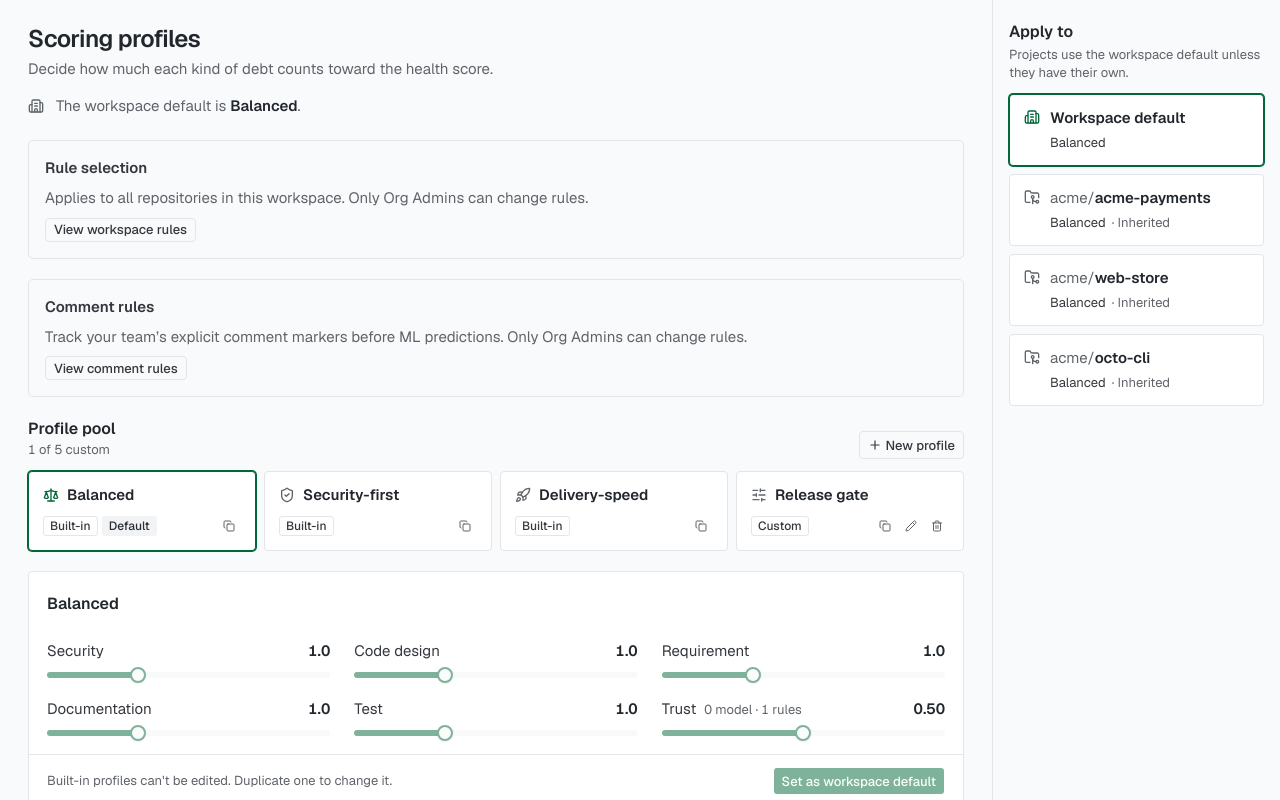
Test case: moving a slider marks the profile unsaved and sends nothing
Click the button "Release gate" at (850, 495), box [751,484,949,506]
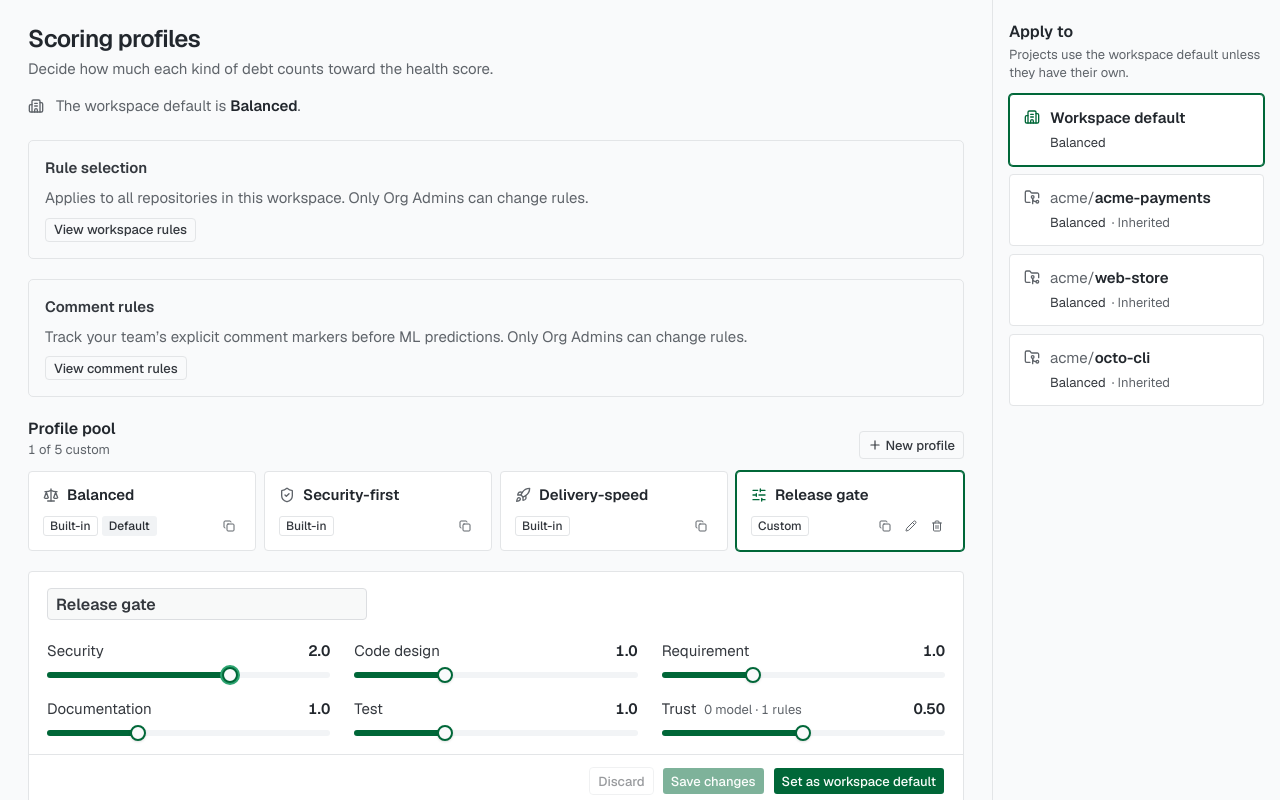
Press Arrowright
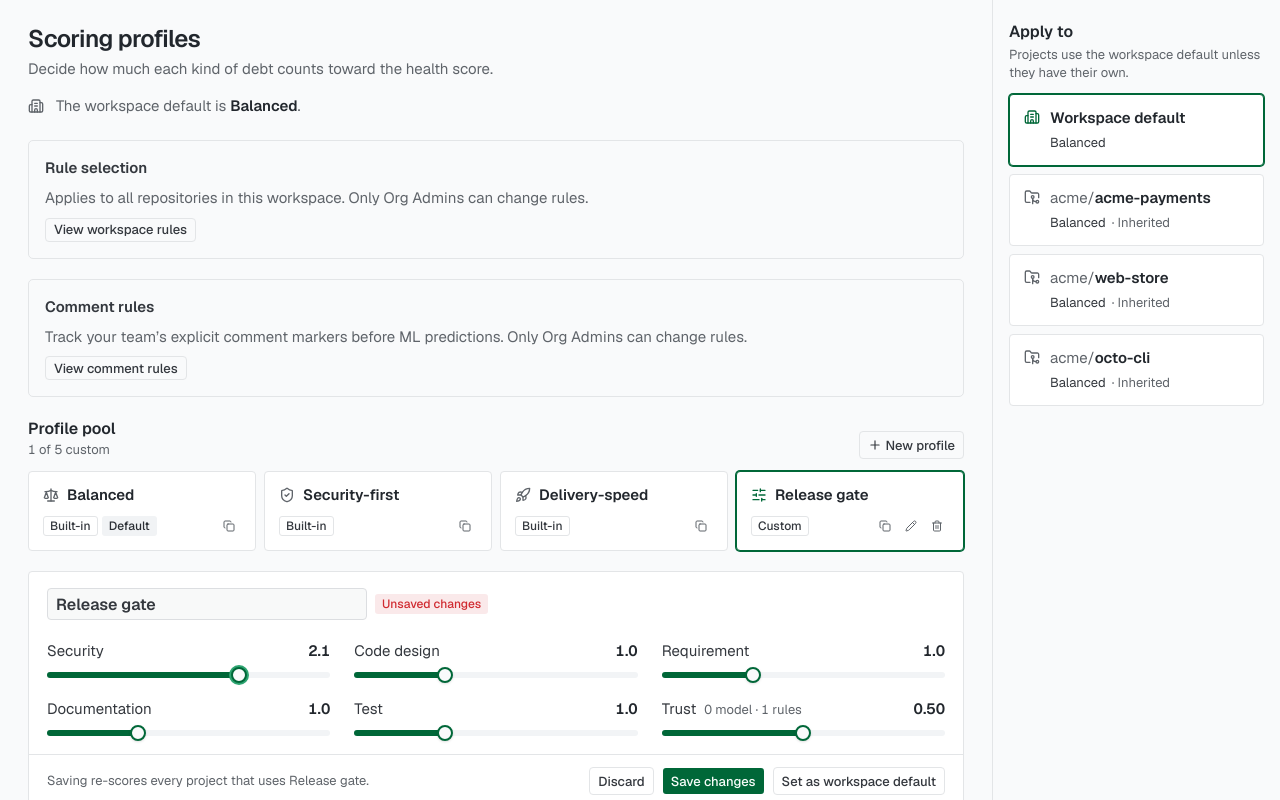
expect the text "Unsaved changes" is shown: met, box [375,594,488,614]
